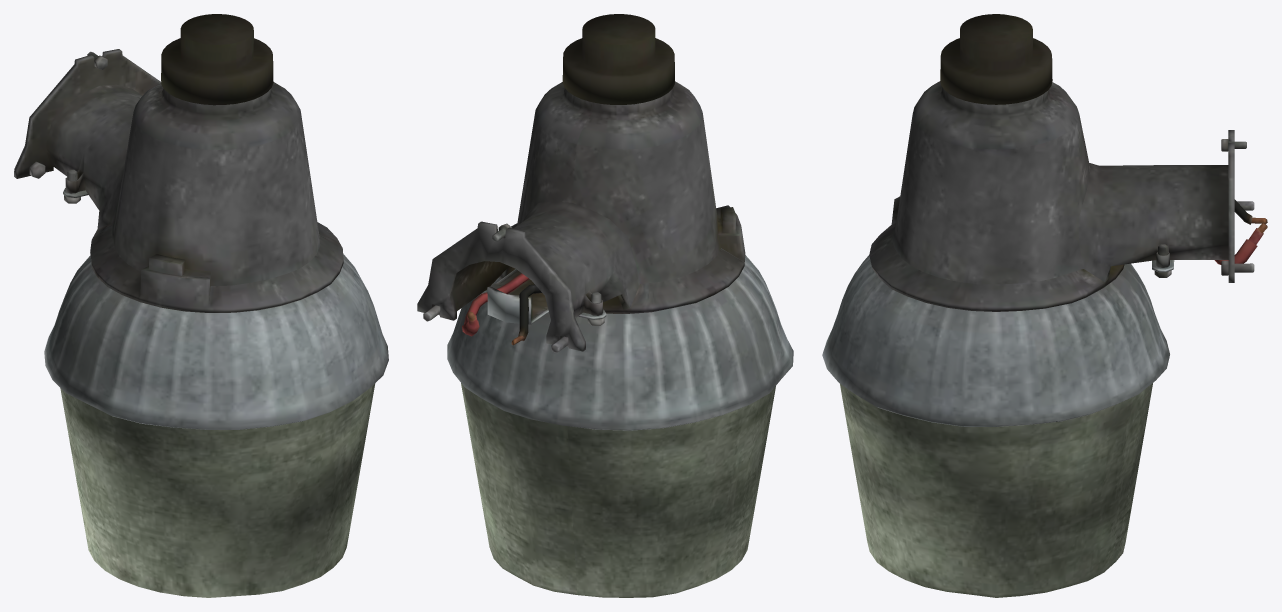
The model's file is security_light.glb.
3 renders of one model, left to right at view 1: azimuth 30°, elevation 25°; view 2: azimuth 150°, elevation 25°; view 3: azimuth 270°, elevation 25°, orthographic.
Visible parts, largest first — view 1: security_light, security_light_glass; view 2: security_light, security_light_glass; view 3: security_light, security_light_glass.
Boxes of the visible parts, x1,y1,x2,y2 form: security_light: (14,14,388,429); security_light_glass: (60,383,375,597); security_light: (417,14,793,430); security_light_glass: (461,383,775,597); security_light: (822,14,1267,426); security_light_glass: (840,383,1152,597).
Size of the model in its own units: 0.3232 by 0.531 by 0.4172.
Materials: 2 (2 with a texture image).
